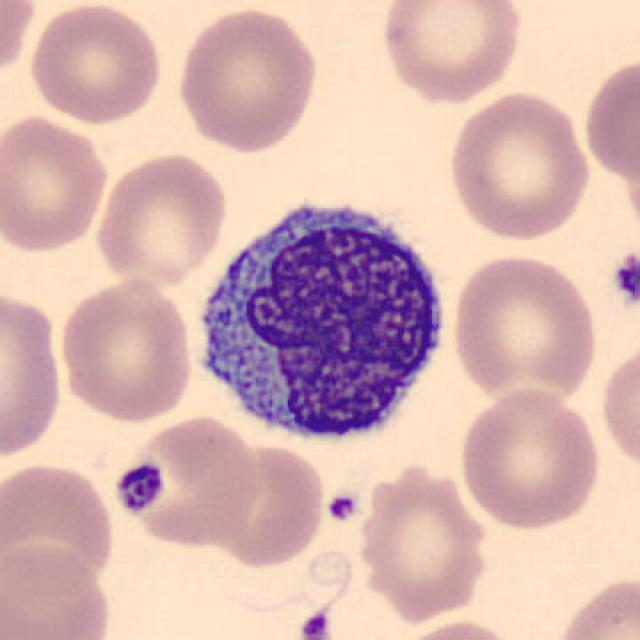Monocyte: (185, 183, 457, 453)
Platelets: (112, 458, 165, 515), (608, 248, 640, 314), (322, 488, 362, 526), (297, 610, 332, 640)
RBC: (448, 250, 601, 408), (444, 88, 596, 243), (172, 4, 322, 155), (354, 458, 492, 622), (455, 384, 605, 531), (110, 411, 263, 550), (55, 275, 196, 425), (91, 148, 231, 289), (194, 439, 329, 568), (27, 0, 165, 125), (0, 458, 119, 602), (0, 109, 112, 256), (377, 0, 526, 104), (0, 286, 66, 466), (0, 539, 117, 640), (580, 53, 638, 187), (551, 571, 638, 640), (598, 337, 638, 478), (386, 617, 524, 640), (0, 0, 37, 84)
